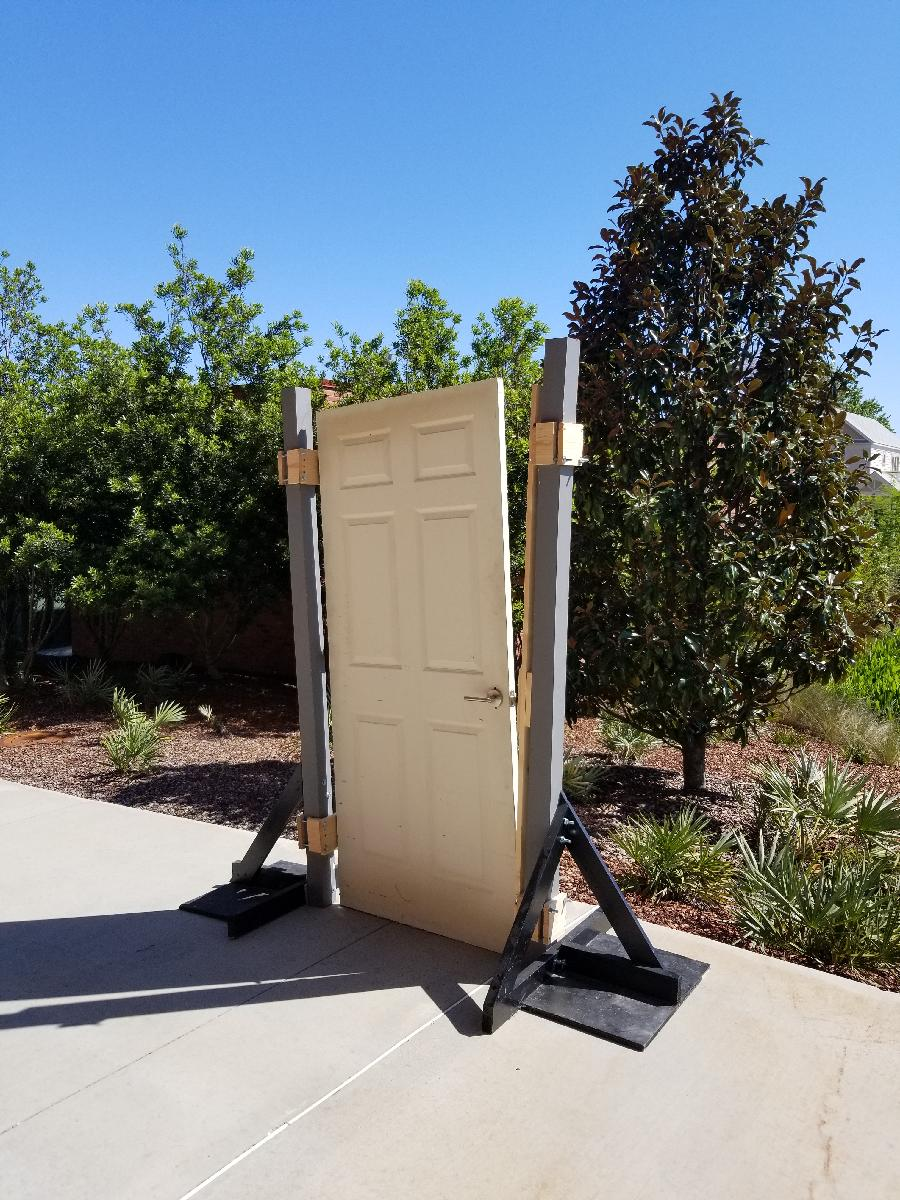door: (311, 370, 530, 963)
doorHandle: (461, 683, 512, 718)
